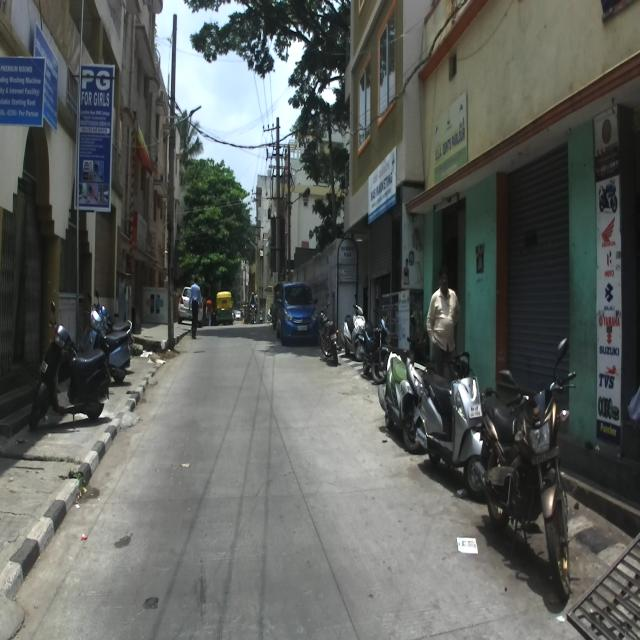car ahead at: (276, 277, 316, 343)
electric pole ahead at: (160, 8, 186, 350)
motorcycle ahead at: (478, 340, 584, 604), (32, 301, 112, 445)
